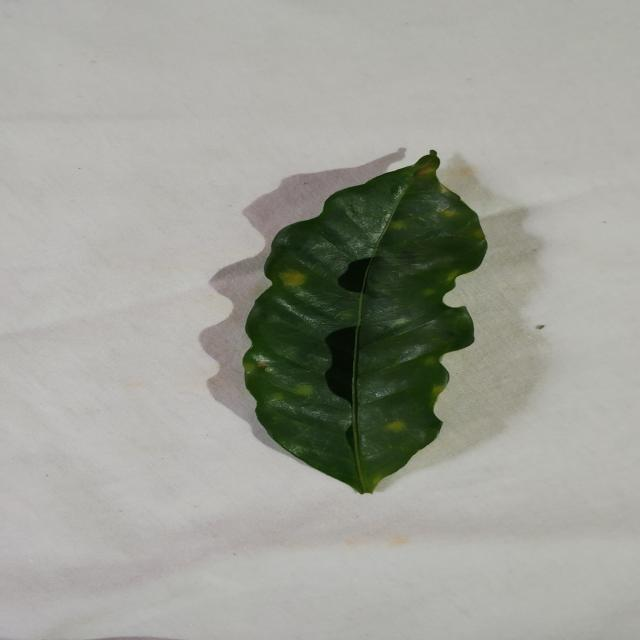Enfermedad-Roya: (240, 152, 489, 497)
